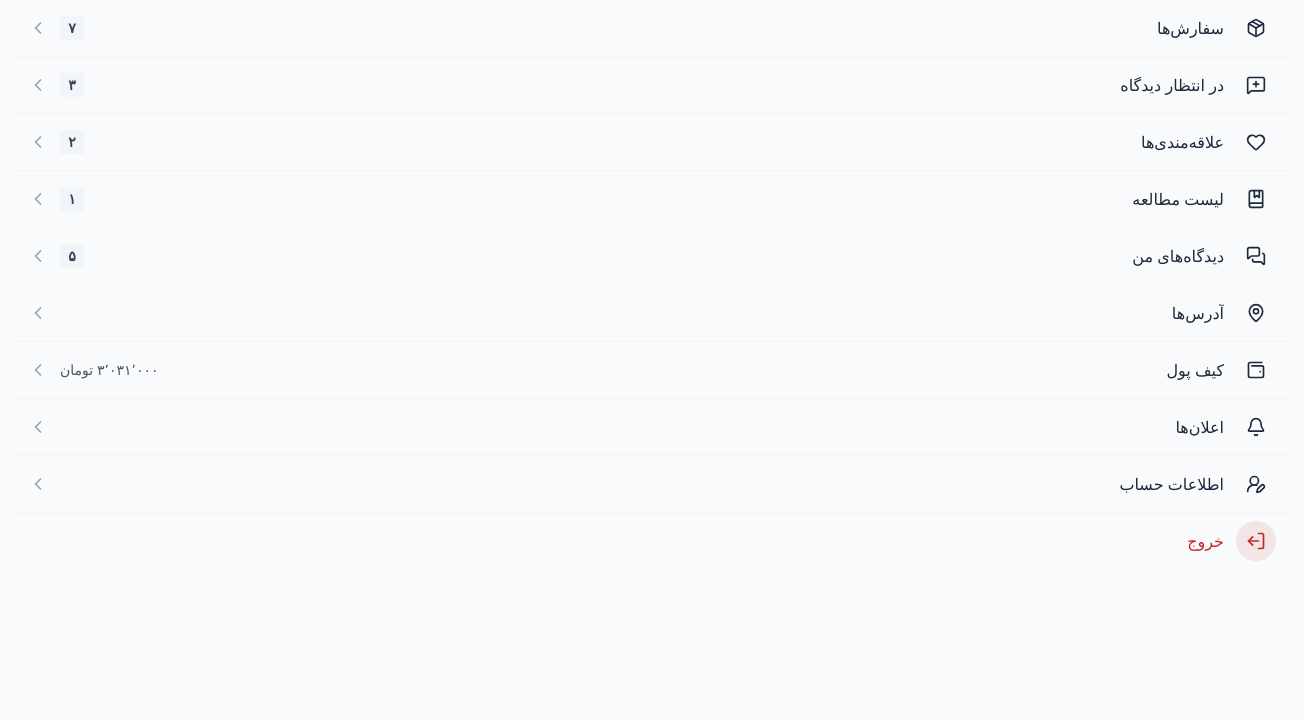
AccountNav › «خروج» logs out, busy while the logout runs, and goes home
Later steps or results of the test are not shown.
Click the button "خروج".
click(1256, 541)  # box [12,513,1292,569]
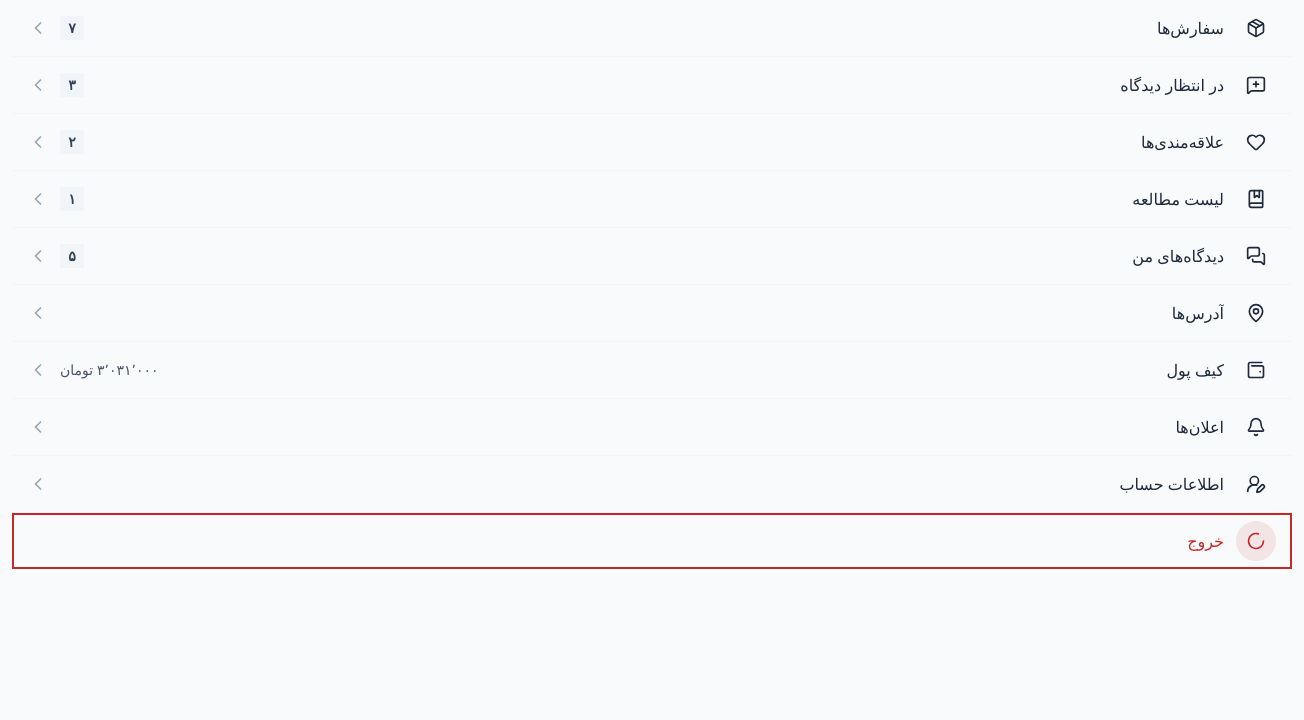
Result: the button "خروج" has attribute aria-busy="true" at [12,513,1292,569]
